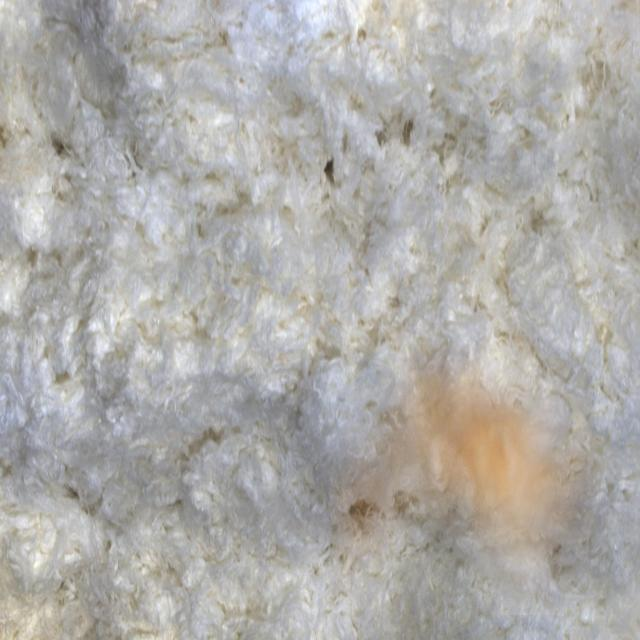dust: (329, 344, 610, 615)
